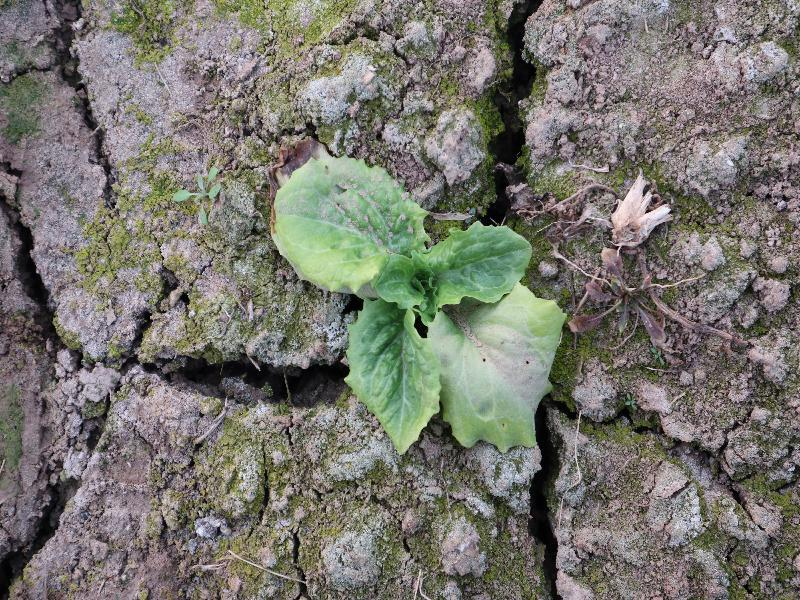lettuce: (270, 153, 566, 452)
